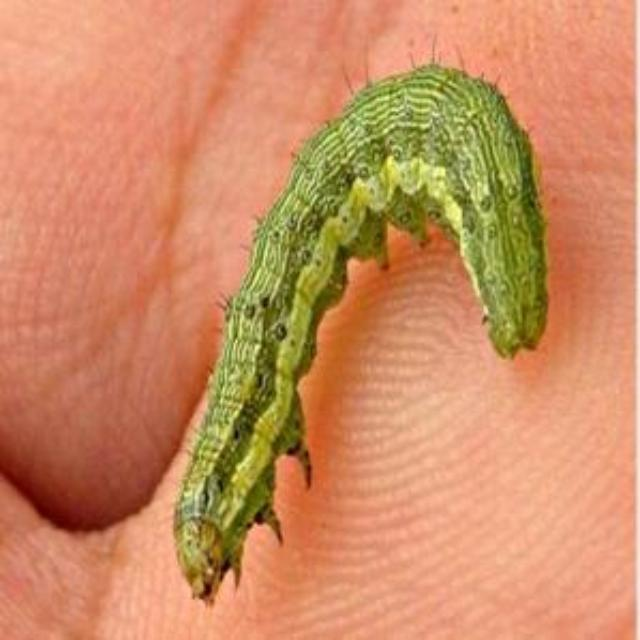Beet armyworm: (108, 28, 582, 610)
